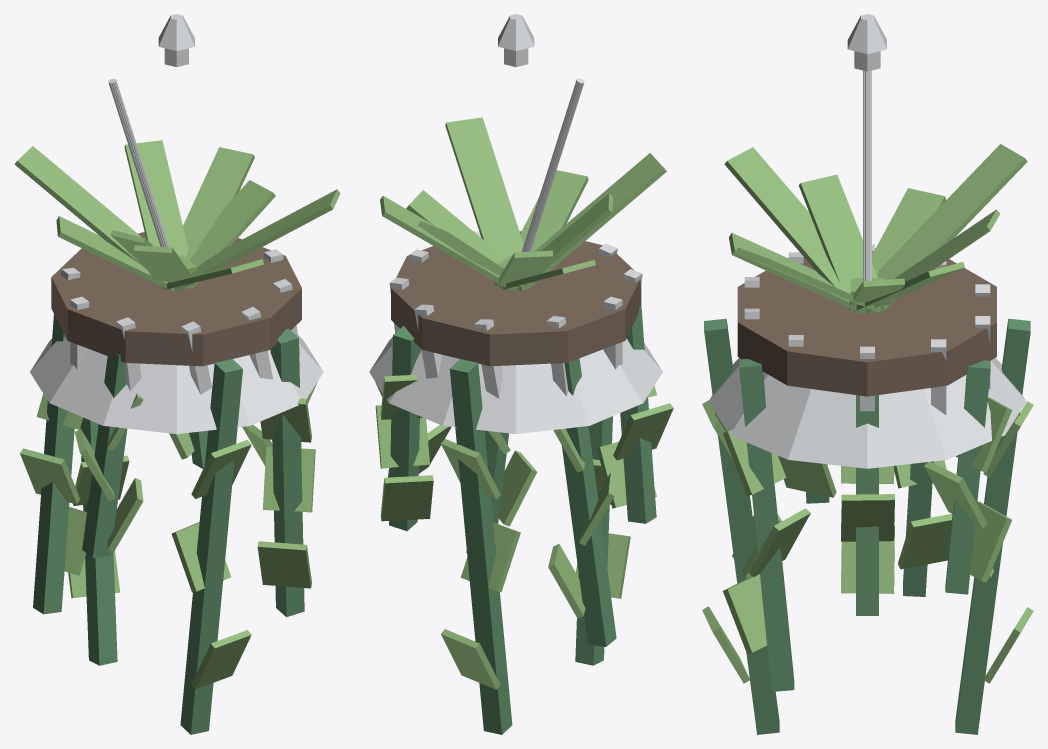
Rendered from botanical-glasshouse-and-palm-house-botanical-glasshou-b65d7f88__38585.glb.
3 renders of one model, left to right at view 1: azimuth 30°, elevation 25°; view 2: azimuth 150°, elevation 25°; view 3: azimuth 270°, elevation 25°, orthographic. The views are drawn at different scales.
Parts seen in each view (by area): view 1: botanical-glasshouse-and-palm-house-hanging-basket; view 2: botanical-glasshouse-and-palm-house-hanging-basket; view 3: botanical-glasshouse-and-palm-house-hanging-basket.
Boxes of the visible parts, bbox=[...] form: botanical-glasshouse-and-palm-house-hanging-basket: bbox=[14, 14, 340, 734]; botanical-glasshouse-and-palm-house-hanging-basket: bbox=[369, 14, 673, 734]; botanical-glasshouse-and-palm-house-hanging-basket: bbox=[702, 14, 1033, 734].
Bounding box in the file's own units: 0.4284 × 1.06 × 0.438.
